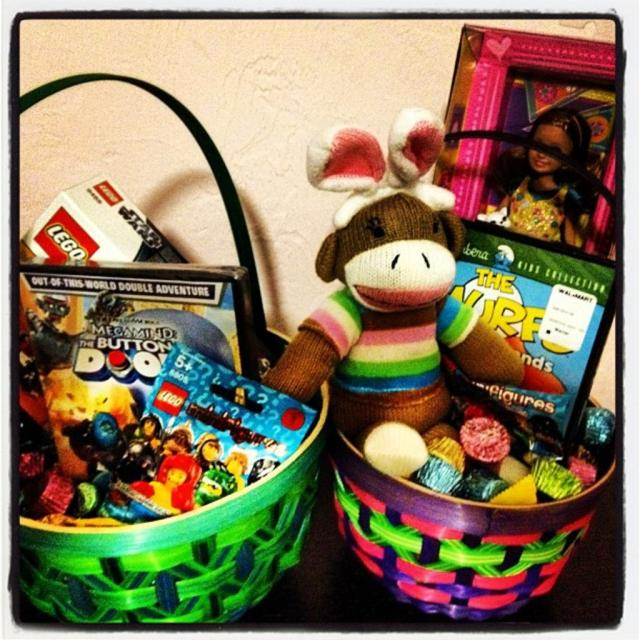Toy: (260, 107, 568, 478)
